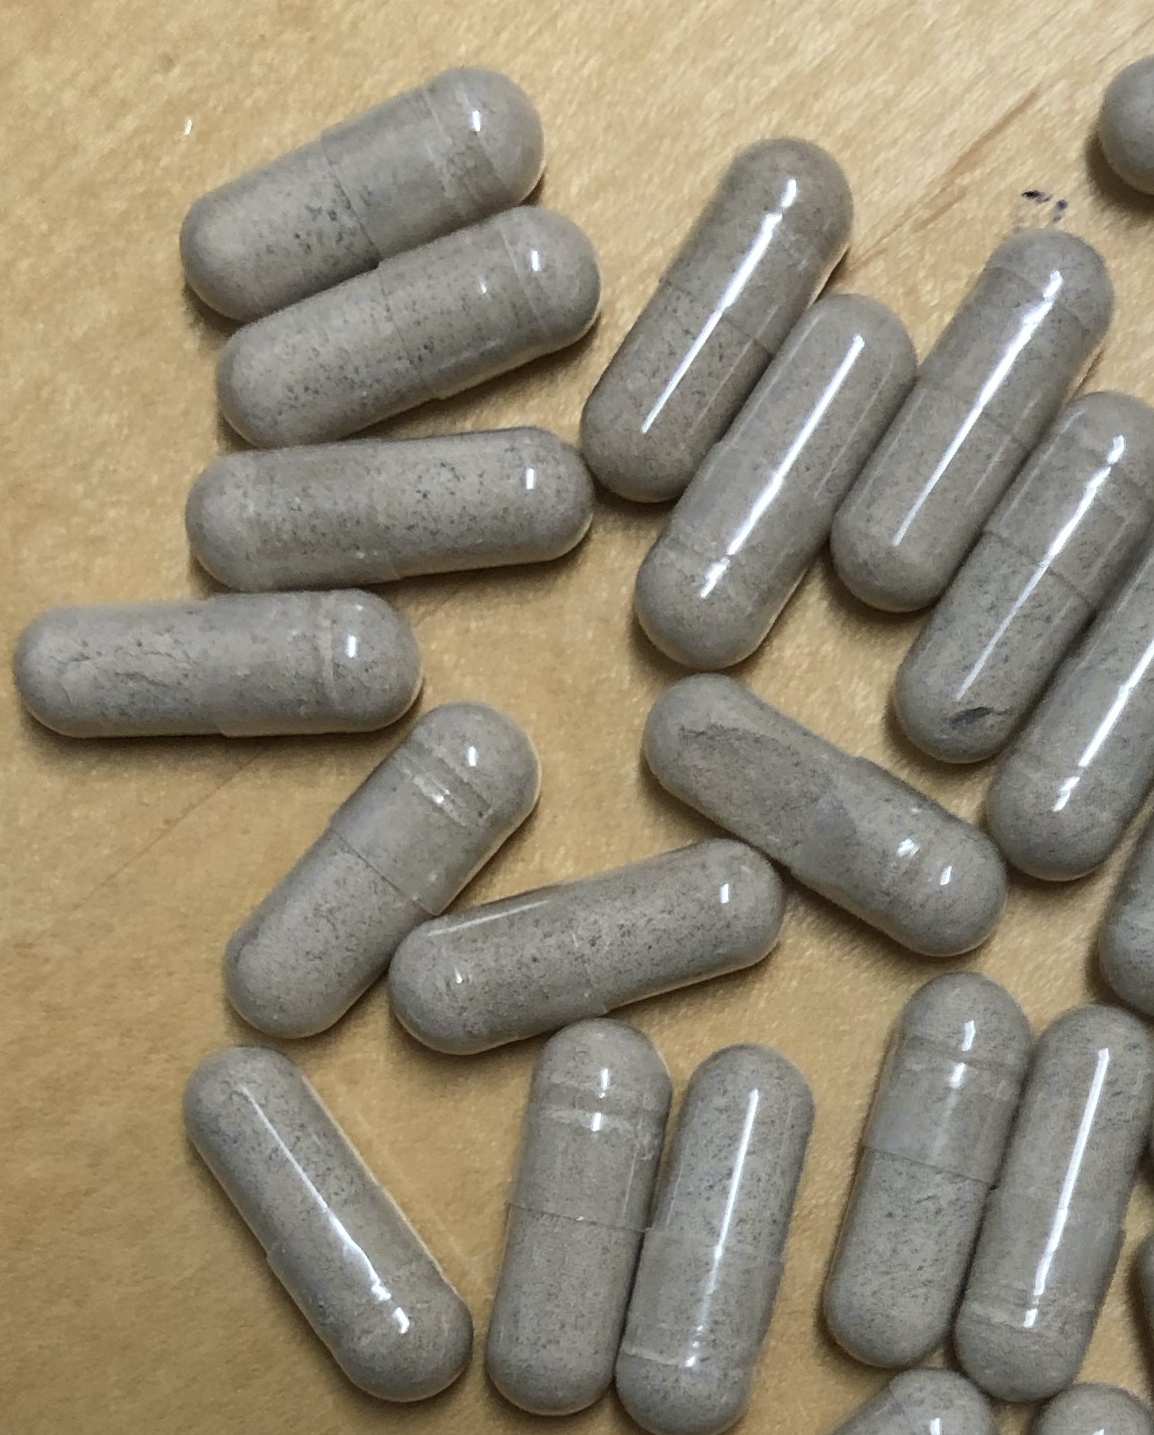capsule: (629, 295, 929, 673), (219, 697, 545, 1043), (829, 225, 1114, 610), (577, 128, 862, 506), (886, 378, 1154, 773), (641, 673, 1010, 958), (183, 1045, 473, 1406), (158, 60, 545, 319), (208, 204, 601, 447), (360, 836, 785, 1059), (947, 965, 1154, 1406), (601, 1017, 816, 1431), (816, 965, 1032, 1375), (482, 1017, 677, 1421), (14, 582, 423, 749), (179, 425, 595, 586), (990, 542, 1154, 891)
